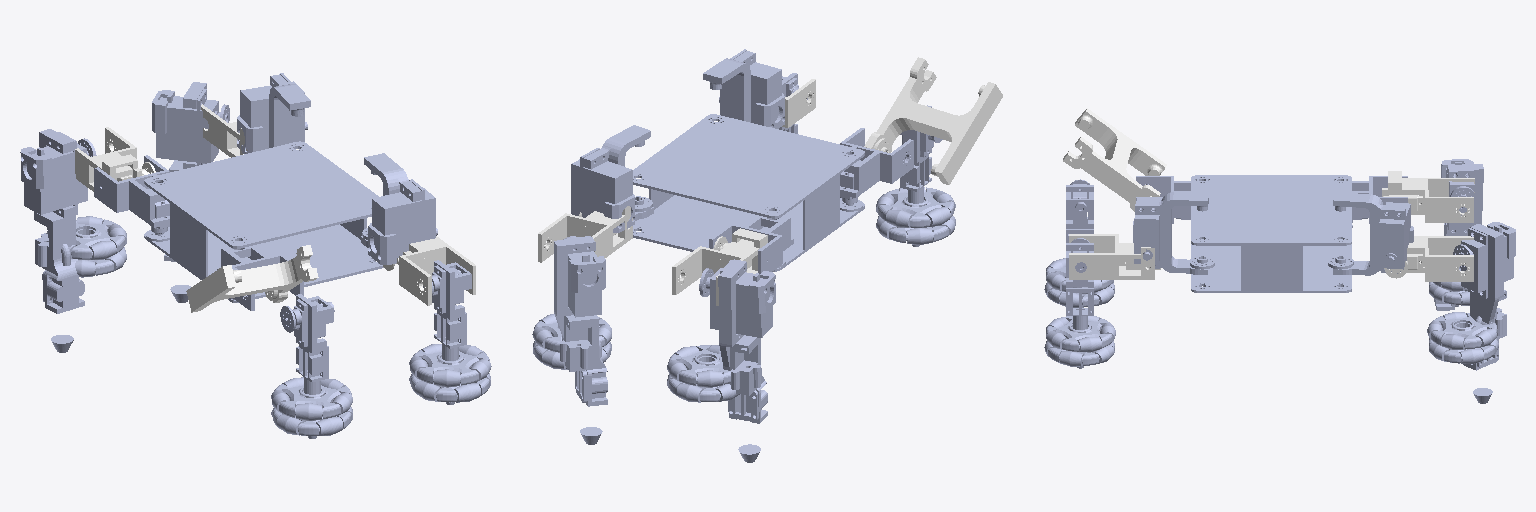
robot.urdf — peter_robot:
<?xml version="1.0" encoding="utf-8"?>
<!-- This URDF was automatically created by SolidWorks to URDF Exporter! Originally created by [author] ([email redacted]) 
     Commit Version: 1.6.0-4-g7f85cfe  Build Version: 1.6.7995.38578
     For more information, please see http://wiki.ros.org/sw_urdf_exporter -->
<robot
  name="peter_robot">
  <link
    name="base_link">
    <inertial>
      <origin
        xyz="0.0057951163939445818 0.0094736464900437718 0.02"
        rpy="0 0 0" />
      <mass
        value="3.0" />
      <inertia
        ixx="0.000954916141298042"
        ixy="-0.000122009140351572"
        ixz="0.00049717087497589"
        iyy="0.000938276141298042"
        iyz="-0.000196141248736565"
        izz="0.000187141337876107" />
    </inertial>
    <visual>
      <origin
        xyz="0 0 0"
        rpy="0 0 0" />
      <geometry>
        <mesh
          filename="package://peter_robot/meshes/Cuerpo_link.STL" />
      </geometry>
      <material
        name="">
        <color
          rgba="0.792156862745098 0.819607843137255 0.933333333333333 1" />
      </material>
    </visual>
    <collision>
      <origin
        xyz="0 0 0"
        rpy="0 0 0" />
      <geometry>
        <mesh
          filename="package://peter_robot/meshes/Cuerpo_link.STL" />
      </geometry>
    </collision>
  </link>
  <link
    name="CoxisRU_link">
    <inertial>
      <origin
        xyz="0.0145758033903628 -0.000148324192035865 -0.00157951128660489"
        rpy="0 0 0" />
      <mass
        value="0.0198300229745734" />
      <inertia
        ixx="0.00033203887322426106"
        ixy="0.0074374349937085608"
        ixz="0.0056481319330245408"
        iyy="0.0046818529679331306"
        iyz="-0.0059763363601787710"
        izz="0.0062779650870579606" />
    </inertial>
    <visual>
      <origin
        xyz="0 0 0"
        rpy="0 0 0" />
      <geometry>
        <mesh
          filename="package://peter_robot/meshes/CoxisRU_link.STL" />
      </geometry>
      <material
        name="">
        <color
          rgba="0.792156862745098 0.819607843137255 0.933333333333333 1" />
      </material>
    </visual>
    <collision>
      <origin
        xyz="0 0 0"
        rpy="0 0 0" />
      <geometry>
        <mesh
          filename="package://peter_robot/meshes/CoxisRU_link.STL" />
      </geometry>
    </collision>
  </link>
  <joint
    name="CoxisRU_joint"
    type="revolute">
    <origin
      xyz="0.0558 -0.0558 0.02"
      rpy="3.1416 0 -1.5708" />
    <parent
      link="base_link" />
    <child
      link="CoxisRU_link" />
    <axis
      xyz="0 0 -1" />
    <limit
      lower="0"
      upper="1.57"
      effort="300"
      velocity="3" />
  </joint>
  <link
    name="FemurRU_link">
    <inertial>
      <origin
        xyz="0.0158446271127422 0.000731589545819266 -0.00234896627561063"
        rpy="0 0 0" />
      <mass
        value="0.0267646481312129" />
      <inertia
        ixx="0.0027372725885784506"
        ixy="0.0031908239997210907"
        ixz="0.0085342307337404507"
        iyy="0.0073568709647354206"
        iyz="-0.0032602627250091908"
        izz="0.0075404497968736806" />
    </inertial>
    <visual>
      <origin
        xyz="0 0 0"
        rpy="0 0 0" />
      <geometry>
        <mesh
          filename="package://peter_robot/meshes/FemurRU_link.STL" />
      </geometry>
      <material
        name="">
        <color
          rgba="1 1 1 1" />
      </material>
    </visual>
    <collision>
      <origin
        xyz="0 0 0"
        rpy="0 0 0" />
      <geometry>
        <mesh
          filename="package://peter_robot/meshes/FemurRU_link.STL" />
      </geometry>
    </collision>
  </link>
  <joint
    name="FemurRU_joint"
    type="revolute">
    <origin
      xyz="0.04455 0 -0.0046"
      rpy="-1.5708 0 0" />
    <parent
      link="CoxisRU_link" />
    <child
      link="FemurRU_link" />
    <axis
      xyz="0 0 -1" />
    <limit
      lower="-0.785"
      upper="0.785"
      effort="300"
      velocity="3" />
  </joint>
  <link
    name="TibiaRU_link">
    <inertial>
      <origin
        xyz="0.0303344390438305 -0.0064645402920726606 -0.00266255588885558"
        rpy="0 0 0" />
      <mass
        value="0.0203567389256734" />
      <inertia
        ixx="0.001075309559184606"
        ixy="0.0040821313346320112"
        ixz="-0.0072023647371747208"
        iyy="0.0035902033061377306"
        iyz="0.0080605163458934112"
        izz="0.0037227584809434606" />
    </inertial>
    <visual>
      <origin
        xyz="0 0 0"
        rpy="0 0 0" />
      <geometry>
        <mesh
          filename="package://peter_robot/meshes/TibiaRU_link.STL" />
      </geometry>
      <material
        name="">
        <color
          rgba="0.792156862745098 0.819607843137255 0.933333333333333 1" />
      </material>
    </visual>
    <collision>
      <origin
        xyz="0 0 0"
        rpy="0 0 0" />
      <geometry>
        <mesh
          filename="package://peter_robot/meshes/TibiaRU_link.STL" />
      </geometry>
    </collision>
  </link>
  <joint
    name="TibiaRU_joint"
    type="revolute">
    <origin
      xyz="0.05395 0 0.0016"
      rpy="0 0 -1.5708" />
    <parent
      link="FemurRU_link" />
    <child
      link="TibiaRU_link" />
    <axis
      xyz="0 0 -1" />
    <limit
      lower="-1.57"
      upper="0.3925"
      effort="300"
      velocity="3" />
  </joint>
  <link
    name="RuedaRU_link">
    <inertial>
      <origin
        xyz="-0.0022780147213019610 0.0025475066500746410 -0.0063190357210696208"
        rpy="0 0 0" />
      <mass
        value="0.0405034383813953" />
      <inertia
        ixx="0.005174137497296206"
        ixy="0.0068457155389386413"
        ixz="0.0021378186017250514"
        iyy="0.0051741383388720806"
        iyz="0.0066069139604846515"
        izz="0.0097299113209887706" />
    </inertial>
    <visual>
      <origin
        xyz="0 0 0"
        rpy="0 0 0" />
      <geometry>
        <mesh
          filename="package://peter_robot/meshes/RuedaRU_link.STL" />
      </geometry>
      <material
        name="">
        <color
          rgba="0.792156862745098 0.819607843137255 0.933333333333333 1" />
      </material>
    </visual>
    <collision>
      <origin
        xyz="0 0 0"
        rpy="0 0 0" />
      <geometry>
        <mesh
          filename="package://peter_robot/meshes/RuedaRU_link.STL" />
      </geometry>
    </collision>
  </link>
  <joint
    name="RuedaRU_joint"
    type="continuous">
    <origin
      xyz="0.07225 0 -0.0039"
      rpy="0 1.5708 0" />
    <parent
      link="TibiaRU_link" />
    <child
      link="RuedaRU_link" />
    <axis
      xyz="0 0 -1" />
    <limit
      effort="300"
      velocity="3" />
  </joint>
  <link
    name="CoxisLU_link">
    <inertial>
      <origin
        xyz="0.0145758033898372 -0.000148324188575952 -0.00157951128572802"
        rpy="0 0 0" />
      <mass
        value="0.0198300229757828" />
      <inertia
        ixx="0.0033203887324183906"
        ixy="0.0074374350512450708"
        ixz="0.0056481319356737508"
        iyy="0.0046818529679575306"
        iyz="-0.0059763413290627210"
        izz="0.0062779650870379706" />
    </inertial>
    <visual>
      <origin
        xyz="0 0 0"
        rpy="0 0 0" />
      <geometry>
        <mesh
          filename="package://peter_robot/meshes/CoxisLU_link.STL" />
      </geometry>
      <material
        name="">
        <color
          rgba="0.792156862745098 0.819607843137255 0.933333333333333 1" />
      </material>
    </visual>
    <collision>
      <origin
        xyz="0 0 0"
        rpy="0 0 0" />
      <geometry>
        <mesh
          filename="package://peter_robot/meshes/CoxisLU_link.STL" />
      </geometry>
    </collision>
  </link>
  <joint
    name="CoxisLU_joint"
    type="revolute">
    <origin
      xyz="0.0558 0.0558 0.02"
      rpy="3.1416 0 1.5708" />
    <parent
      link="base_link" />
    <child
      link="CoxisLU_link" />
    <axis
      xyz="0 0 -1" />
    <limit
      lower="-1.57"
      upper="0"
      effort="300"
      velocity="3" />
  </joint>
  <link
    name="FemurLU_link">
    <inertial>
      <origin
        xyz="0.0158446270939323 0.000731589541232057 -0.0023489662634897"
        rpy="0 0 0" />
      <mass
        value="0.0267646481619211" />
      <inertia
        ixx="0.0027372725904361806"
        ixy="0.0031908239941182507"
        ixz="0.0085342307466234407"
        iyy="0.0073568709674539306"
        iyz="-0.003260262652798508"
        izz="0.0075404497985481606" />
    </inertial>
    <visual>
      <origin
        xyz="0 0 0"
        rpy="0 0 0" />
      <geometry>
        <mesh
          filename="package://peter_robot/meshes/FemurLU_link.STL" />
      </geometry>
      <material
        name="">
        <color
          rgba="1 1 1 1" />
      </material>
    </visual>
    <collision>
      <origin
        xyz="0 0 0"
        rpy="0 0 0" />
      <geometry>
        <mesh
          filename="package://peter_robot/meshes/FemurLU_link.STL" />
      </geometry>
    </collision>
  </link>
  <joint
    name="FemurLU_joint"
    type="revolute">
    <origin
      xyz="0.04455 0 -0.0046"
      rpy="-1.5708 0 0" />
    <parent
      link="CoxisLU_link" />
    <child
      link="FemurLU_link" />
    <axis
      xyz="0 0 -1" />
    <limit
      lower="-0.785"
      upper="0.785"
      effort="300"
      velocity="3" />
  </joint>
  <link
    name="TibiaLU_link">
    <inertial>
      <origin
        xyz="0.0303344390398229 -0.0064645402714225106 0.000537444112589075"
        rpy="0 0 0" />
      <mass
        value="0.0203567389283255" />
      <inertia
        ixx="0.0010753095594363206"
        ixy="0.0040821340532090512"
        ixz="-0.0072023647216624708"
        iyy="0.0035902033064178606"
        iyz="0.0080605028999537812"
        izz="0.0037227584810593206" />
    </inertial>
    <visual>
      <origin
        xyz="0 0 0"
        rpy="0 0 0" />
      <geometry>
        <mesh
          filename="package://peter_robot/meshes/TibiaLU_link.STL" />
      </geometry>
      <material
        name="">
        <color
          rgba="0.792156862745098 0.819607843137255 0.933333333333333 1" />
      </material>
    </visual>
    <collision>
      <origin
        xyz="0 0 0"
        rpy="0 0 0" />
      <geometry>
        <mesh
          filename="package://peter_robot/meshes/TibiaLU_link.STL" />
      </geometry>
    </collision>
  </link>
  <joint
    name="TibiaLU_joint"
    type="revolute">
    <origin
      xyz="0.05395 0 -0.0016"
      rpy="0 0 -1.5708" />
    <parent
      link="FemurLU_link" />
    <child
      link="TibiaLU_link" />
    <axis
      xyz="0 0 -1" />
    <limit
      lower="-1.57"
      upper="0.3925"
      effort="300"
      velocity="3" />
  </joint>
  <link
    name="RuedaLU_link">
    <inertial>
      <origin
        xyz="0.002278017288692710 -0.0025475083154091710 -0.0063190355295561508"
        rpy="0 0 0" />
      <mass
        value="0.0405034383813952" />
      <inertia
        ixx="0.005174137497296206"
        ixy="0.0068457155759549713"
        ixz="-0.0021378184629713714"
        iyy="0.0051741383388720806"
        iyz="-0.0066069135756848315"
        izz="0.0097299113209887706" />
    </inertial>
    <visual>
      <origin
        xyz="0 0 0"
        rpy="0 0 0" />
      <geometry>
        <mesh
          filename="package://peter_robot/meshes/RuedaLU_link.STL" />
      </geometry>
      <material
        name="">
        <color
          rgba="0.792156862745098 0.819607843137255 0.933333333333333 1" />
      </material>
    </visual>
    <collision>
      <origin
        xyz="0 0 0"
        rpy="0 0 0" />
      <geometry>
        <mesh
          filename="package://peter_robot/meshes/RuedaLU_link.STL" />
      </geometry>
    </collision>
  </link>
  <joint
    name="RuedaLU_joint"
    type="continuous">
    <origin
      xyz="0.07225 0 -0.0007"
      rpy="0 -1.5708 0" />
    <parent
      link="TibiaLU_link" />
    <child
      link="RuedaLU_link" />
    <axis
      xyz="0 0 -1" />
  </joint>
  <link
    name="CoxisRD_link">
    <inertial>
      <origin
        xyz="0.0145758034147555 -0.000148324186287456 -0.00157951130233852"
        rpy="0 0 0" />
      <mass
        value="0.0198300229471255" />
      <inertia
        ixx="0.0033203887309334506"
        ixy="0.0074374350931830508"
        ixz="0.0056481317661782108"
        iyy="0.0046818529645321506"
        iyz="-0.0059763449243910710"
        izz="0.0062779650849971806" />
    </inertial>
    <visual>
      <origin
        xyz="0 0 0"
        rpy="0 0 0" />
      <geometry>
        <mesh
          filename="package://peter_robot/meshes/CoxisRD_link.STL" />
      </geometry>
      <material
        name="">
        <color
          rgba="0.792156862745098 0.819607843137255 0.933333333333333 1" />
      </material>
    </visual>
    <collision>
      <origin
        xyz="0 0 0"
        rpy="0 0 0" />
      <geometry>
        <mesh
          filename="package://peter_robot/meshes/CoxisRD_link.STL" />
      </geometry>
    </collision>
  </link>
  <joint
    name="CoxisRD_joint"
    type="revolute">
    <origin
      xyz="-0.0558 -0.0558 0.02"
      rpy="3.1416 0 -1.5708" />
    <parent
      link="base_link" />
    <child
      link="CoxisRD_link" />
    <axis
      xyz="0 0 -1" />
    <limit
      lower="-1.57"
      upper="0"
      effort="300"
      velocity="3" />
  </joint>
  <link
    name="FemurRD_link">
    <inertial>
      <origin
        xyz="0.0158446271061813 0.000731589545244282 -0.00234896627188297"
        rpy="0 0 0" />
      <mass
        value="0.0267646481407517" />
      <inertia
        ixx="0.0027372725890429706"
        ixy="0.0031908239989177907"
        ixz="0.0085342307390399407"
        iyy="0.0073568709658379206"
        iyz="-0.0032602627185682608"
        izz="0.0075404497975679406" />
    </inertial>
    <visual>
      <origin
        xyz="0 0 0"
        rpy="0 0 0" />
      <geometry>
        <mesh
          filename="package://peter_robot/meshes/FemurRD_link.STL" />
      </geometry>
      <material
        name="">
        <color
          rgba="1 1 1 1" />
      </material>
    </visual>
    <collision>
      <origin
        xyz="0 0 0"
        rpy="0 0 0" />
      <geometry>
        <mesh
          filename="package://peter_robot/meshes/FemurRD_link.STL" />
      </geometry>
    </collision>
  </link>
  <joint
    name="FemurRD_joint"
    type="revolute">
    <origin
      xyz="0.04455 0 -0.0046"
      rpy="-1.5708 0 0" />
    <parent
      link="CoxisRD_link" />
    <child
      link="FemurRD_link" />
    <axis
      xyz="0 0 -1" />
    <limit
      lower="-0.785"
      upper="0.785"
      effort="300"
      velocity="3" />
  </joint>
  <link
    name="TibiaRD_link">
    <inertial>
      <origin
        xyz="0.0303344391647721 -0.0064645363408999406 -0.0026625559205628"
        rpy="0 0 0" />
      <mass
        value="0.0203567388517281" />
      <inertia
        ixx="0.0010753095557645506"
        ixy="0.0040828428449131212"
        ixz="-0.0072023651659255508"
        iyy="0.0035902032972577406"
        iyz="0.008059946090131212"
        izz="0.0037227584753179706" />
    </inertial>
    <visual>
      <origin
        xyz="0 0 0"
        rpy="0 0 0" />
      <geometry>
        <mesh
          filename="package://peter_robot/meshes/TibiaRD_link.STL" />
      </geometry>
      <material
        name="">
        <color
          rgba="0.792156862745098 0.819607843137255 0.933333333333333 1" />
      </material>
    </visual>
    <collision>
      <origin
        xyz="0 0 0"
        rpy="0 0 0" />
      <geometry>
        <mesh
          filename="package://peter_robot/meshes/TibiaRD_link.STL" />
      </geometry>
    </collision>
  </link>
  <joint
    name="TibiaRD_joint"
    type="revolute">
    <origin
      xyz="0.05395 0 0.0016"
      rpy="0 0 -1.5708" />
    <parent
      link="FemurRD_link" />
    <child
      link="TibiaRD_link" />
    <axis
      xyz="0 0 -1" />
    <limit
      lower="-1.57"
      upper="0.3925"
      effort="300"
      velocity="3" />
  </joint>
  <link
    name="RuedaRD_link">
    <inertial>
      <origin
        xyz="-0.0022780147213019610 0.0025475072051861510 -0.0063190359493592308"
        rpy="0 0 0" />
      <mass
        value="0.0405034383813952" />
      <inertia
        ixx="0.005174137497296206"
        ixy="0.0068457155408163413"
        ixz="0.002137818453735414"
        iyy="0.0051741383388720806"
        iyz="0.0066069143859850515"
        izz="0.0097299113209887606" />
    </inertial>
    <visual>
      <origin
        xyz="0 0 0"
        rpy="0 0 0" />
      <geometry>
        <mesh
          filename="package://peter_robot/meshes/RuedaRD_link.STL" />
      </geometry>
      <material
        name="">
        <color
          rgba="0.792156862745098 0.819607843137255 0.933333333333333 1" />
      </material>
    </visual>
    <collision>
      <origin
        xyz="0 0 0"
        rpy="0 0 0" />
      <geometry>
        <mesh
          filename="package://peter_robot/meshes/RuedaRD_link.STL" />
      </geometry>
    </collision>
  </link>
  <joint
    name="RuedaRD_joint"
    type="continuous">
    <origin
      xyz="0.07225 0 -0.0039"
      rpy="0 1.5708 0" />
    <parent
      link="TibiaRD_link" />
    <child
      link="RuedaRD_link" />
    <axis
      xyz="0 0 -1" />
  </joint>
  <link
    name="CoxisLD_link">
    <inertial>
      <origin
        xyz="0.0145758034287634 -0.000148324186440819 -0.00157951131109748"
        rpy="0 0 0" />
      <mass
        value="0.0198300229322089" />
      <inertia
        ixx="0.003320388730206"
        ixy="0.0074374350824844708"
        ixz="0.0056481316618717208"
        iyy="0.0046818529625022906"
        iyz="-0.0059763447978343810"
        izz="0.0062779650837921106" />
    </inertial>
    <visual>
      <origin
        xyz="0 0 0"
        rpy="0 0 0" />
      <geometry>
        <mesh
          filename="package://peter_robot/meshes/CoxisLD_link.STL" />
      </geometry>
      <material
        name="">
        <color
          rgba="0.792156862745098 0.819607843137255 0.933333333333333 1" />
      </material>
    </visual>
    <collision>
      <origin
        xyz="0 0 0"
        rpy="0 0 0" />
      <geometry>
        <mesh
          filename="package://peter_robot/meshes/CoxisLD_link.STL" />
      </geometry>
    </collision>
  </link>
  <joint
    name="CoxisLD_joint"
    type="revolute">
    <origin
      xyz="-0.0557999999999999 0.0558000000000001 0.02"
      rpy="3.14159265358979 0 1.5707963267949" />
    <parent
      link="base_link" />
    <child
      link="CoxisLD_link" />
    <axis
      xyz="0 0 -1" />
    <limit
      lower="0"
      upper="1.57"
      effort="300"
      velocity="3" />
  </joint>
  <link
    name="FemurLD_link">
    <inertial>
      <origin
        xyz="0.0158446271347616 0.000731589548341318 -0.00234896628844949"
        rpy="0 0 0" />
      <mass
        value="0.0267646480993488" />
      <inertia
        ixx="0.0027372725869173606"
        ixy="0.0031908240034705407"
        ixz="0.0085342307149318207"
        iyy="0.0073568709609241106"
        iyz="-0.0032602627566903708"
        izz="0.0075404497946103606" />
    </inertial>
    <visual>
      <origin
        xyz="0 0 0"
        rpy="0 0 0" />
      <geometry>
        <mesh
          filename="package://peter_robot/meshes/FemurLD_link.STL" />
      </geometry>
      <material
        name="">
        <color
          rgba="1 1 1 1" />
      </material>
    </visual>
    <collision>
      <origin
        xyz="0 0 0"
        rpy="0 0 0" />
      <geometry>
        <mesh
          filename="package://peter_robot/meshes/FemurLD_link.STL" />
      </geometry>
    </collision>
  </link>
  <joint
    name="FemurLD_joint"
    type="revolute">
    <origin
      xyz="0.0445499999999999 0 -0.00459999999999999"
      rpy="-1.5707963267949 0 0" />
    <parent
      link="CoxisLD_link" />
    <child
      link="FemurLD_link" />
    <axis
      xyz="0 0 -1" />
    <limit
      lower="-0.725"
      upper="0.725"
      effort="300"
      velocity="3" />
  </joint>
  <link
    name="TibiaLD_link">
    <inertial>
      <origin
        xyz="0.0303344390126996 -0.0064645429165843806 0.000537444120214961"
        rpy="0 0 0" />
      <mass
        value="0.0203567389458481" />
      <inertia
        ixx="0.0010753095603793906"
        ixy="0.0040815514175290412"
        ixz="-0.0072023646401669108"
        iyy="0.0035902033081829706"
        iyz="0.0080608997546156212"
        izz="0.0037227584821212906" />
    </inertial>
    <visual>
      <origin
        xyz="0 0 0"
        rpy="0 0 0" />
      <geometry>
        <mesh
          filename="package://peter_robot/meshes/TibiaLD_link.STL" />
      </geometry>
      <material
        name="">
        <color
          rgba="0.792156862745098 0.819607843137255 0.933333333333333 1" />
      </material>
    </visual>
    <collision>
      <origin
        xyz="0 0 0"
        rpy="0 0 0" />
      <geometry>
        <mesh
          filename="package://peter_robot/meshes/TibiaLD_link.STL" />
      </geometry>
    </collision>
  </link>
  <joint
    name="TibiaLD_joint"
    type="revolute">
    <origin
      xyz="0.0539500000000001 0 -0.00159999999999993"
      rpy="0 0 -1.5707963267949" />
    <parent
      link="FemurLD_link" />
    <child
      link="TibiaLD_link" />
    <axis
      xyz="0 0 -1" />
    <limit
      lower="-1.57"
      upper="0.3925"
      effort="300"
      velocity="3" />
  </joint>
  <link
    name="RuedaLD_link">
    <inertial>
      <origin
        xyz="0.002278017288692710 -0.0025475085929649310 -0.0063190356197617708"
        rpy="0 0 0" />
      <mass
        value="0.0405034383813952" />
      <inertia
        ixx="0.0051741374972961906"
        ixy="0.0068457155467389613"
        ixz="-0.0021378185041981414"
        iyy="0.0051741383388720806"
        iyz="-0.0066069141633005815"
        izz="0.0097299113209887706" />
    </inertial>
    <visual>
      <origin
        xyz="0 0 0"
        rpy="0 0 0" />
      <geometry>
        <mesh
          filename="package://peter_robot/meshes/RuedaLD_link.STL" />
      </geometry>
      <material
        name="">
        <color
          rgba="0.792156862745098 0.819607843137255 0.933333333333333 1" />
      </material>
    </visual>
    <collision>
      <origin
        xyz="0 0 0"
        rpy="0 0 0" />
      <geometry>
        <mesh
          filename="package://peter_robot/meshes/RuedaLD_link.STL" />
      </geometry>
    </collision>
  </link>
  <joint
    name="RuedaLD_joint"
    type="continuous">
    <origin
      xyz="0.0722499993139122 0 -0.00070000009500111"
      rpy="0 -1.5707963267949 0" />
    <parent
      link="TibiaLD_link" />
    <child
      link="RuedaLD_link" />
    <axis
      xyz="0 0 -1" />
  </joint>
</robot>

--- Render facts (derived) ---
The picture shows the robot from 3 angles, left to right: view 1: azimuth 30°, elevation 25°; view 2: azimuth 150°, elevation 25°; view 3: azimuth 270°, elevation 25°; orthographic projection.
Model peter_robot with 17 links and 16 joints (12 revolute, 4 continuous), rooted at base_link, posed every joint at zero.
Visible links, largest first — view 1: base_link, TibiaLD_link, CoxisRU_link, TibiaLU_link, CoxisLU_link, FemurRD_link, RuedaRU_link, RuedaRD_link, TibiaRD_link, CoxisLD_link, TibiaRU_link, RuedaLD_link (+4 smaller); view 2: base_link, TibiaLD_link, TibiaLU_link, FemurRD_link, CoxisLU_link, CoxisRU_link, RuedaRD_link, RuedaLD_link, CoxisRD_link, FemurLD_link, FemurLU_link, CoxisLD_link (+3 smaller); view 3: base_link, TibiaLU_link, FemurRD_link, CoxisLU_link, CoxisRU_link, FemurRU_link, RuedaLU_link, FemurLD_link, RuedaRU_link, FemurLU_link, TibiaLD_link, TibiaRU_link (+5 smaller).
Boxes of the visible links, x1,y1,x2,y2 form: base_link: (144, 141, 383, 302); TibiaLD_link: (20, 129, 96, 352); CoxisRU_link: (361, 153, 437, 264); TibiaLU_link: (152, 82, 229, 302); CoxisLU_link: (237, 73, 310, 153); FemurRD_link: (186, 245, 318, 312); RuedaRU_link: (409, 344, 491, 402); RuedaRD_link: (271, 377, 352, 435); TibiaRD_link: (280, 294, 334, 438); CoxisLD_link: (94, 155, 169, 241); TibiaRU_link: (423, 260, 471, 404); RuedaLD_link: (46, 216, 126, 277); base_link: (633, 114, 864, 271); TibiaLD_link: (699, 259, 775, 462); TibiaLU_link: (554, 236, 607, 444); FemurRD_link: (864, 57, 1002, 184); CoxisLU_link: (571, 125, 653, 232); CoxisRU_link: (703, 49, 784, 128); RuedaRD_link: (876, 187, 955, 244); RuedaLD_link: (667, 345, 739, 402); CoxisRD_link: (840, 128, 913, 211); FemurLD_link: (672, 228, 767, 305); FemurLU_link: (538, 206, 632, 262); CoxisLD_link: (709, 215, 793, 273); base_link: (1191, 175, 1351, 292); TibiaLU_link: (1453, 222, 1515, 403); FemurRD_link: (1063, 108, 1166, 211); CoxisLU_link: (1328, 192, 1413, 275); CoxisRU_link: (1133, 192, 1214, 274); FemurRU_link: (1069, 234, 1160, 279); RuedaLU_link: (1427, 312, 1498, 363); FemurLD_link: (1382, 171, 1474, 222); RuedaRU_link: (1044, 316, 1115, 366); FemurLU_link: (1384, 236, 1473, 281); TibiaLD_link: (1434, 159, 1483, 310); TibiaRU_link: (1066, 238, 1093, 368).
Bounding box of the posed robot: 0.2109 × 0.3798 × 0.1953 m (x, y, z).
17 mesh visuals loaded from 17 distinct referenced files (17 binary STL).
